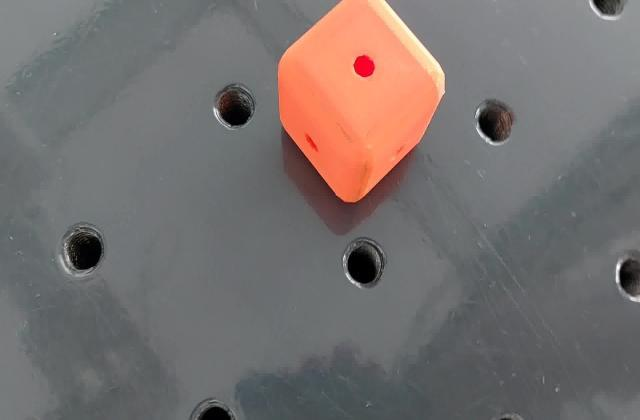cube: (276, 0, 447, 209)
